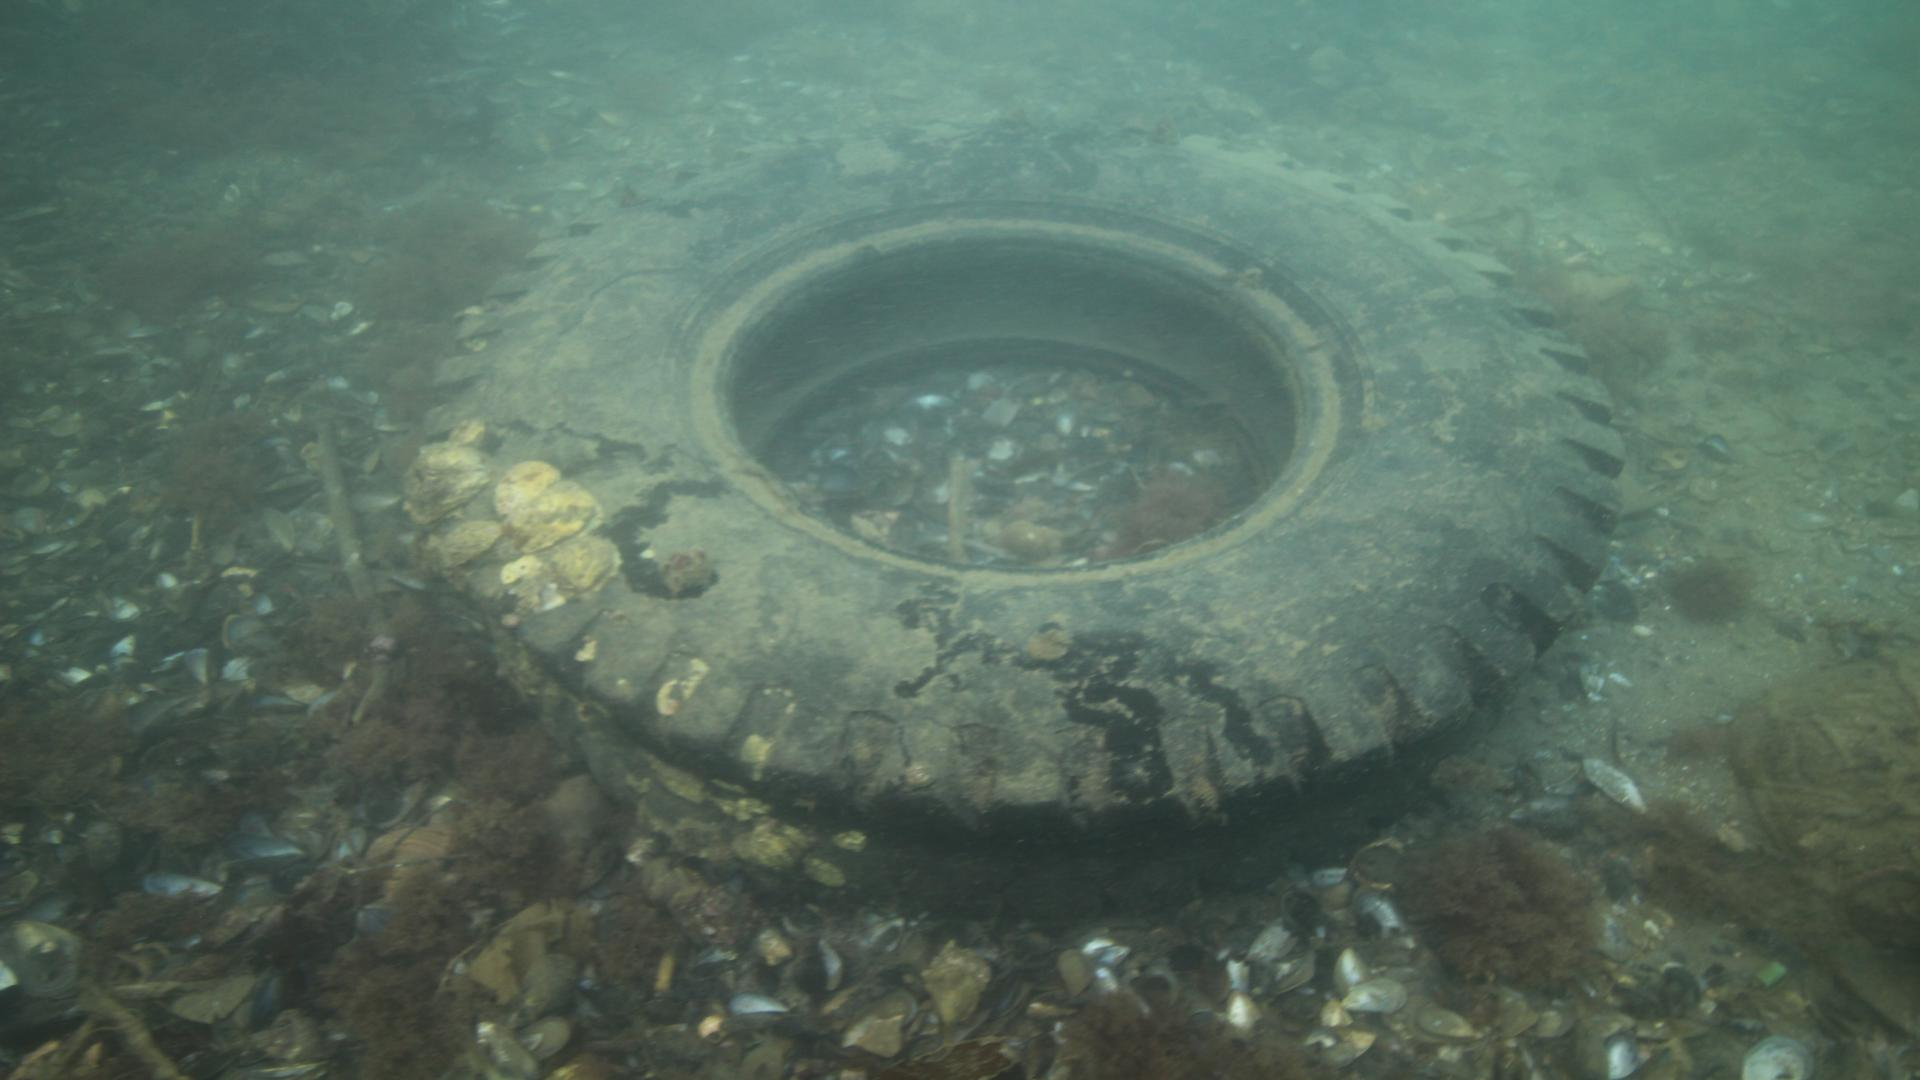tire: (421, 112, 1626, 920)
